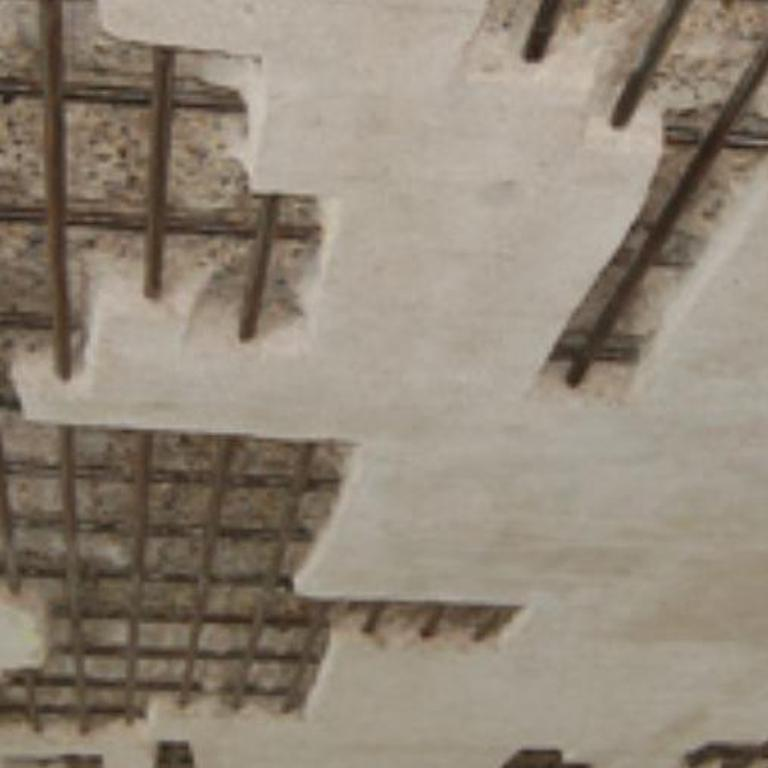exposed_rebar: (0, 0, 320, 380), (551, 39, 768, 386), (136, 436, 291, 704), (0, 426, 133, 730), (228, 442, 341, 707), (610, 0, 691, 128), (126, 432, 154, 718), (255, 603, 324, 710), (1, 668, 77, 731), (524, 0, 562, 62), (472, 608, 519, 641), (362, 603, 386, 634), (420, 606, 443, 638)
spalling: (0, 410, 516, 731), (0, 0, 320, 407), (474, 0, 768, 398), (686, 741, 768, 768), (3, 753, 104, 768), (501, 748, 562, 767), (155, 741, 194, 768)
